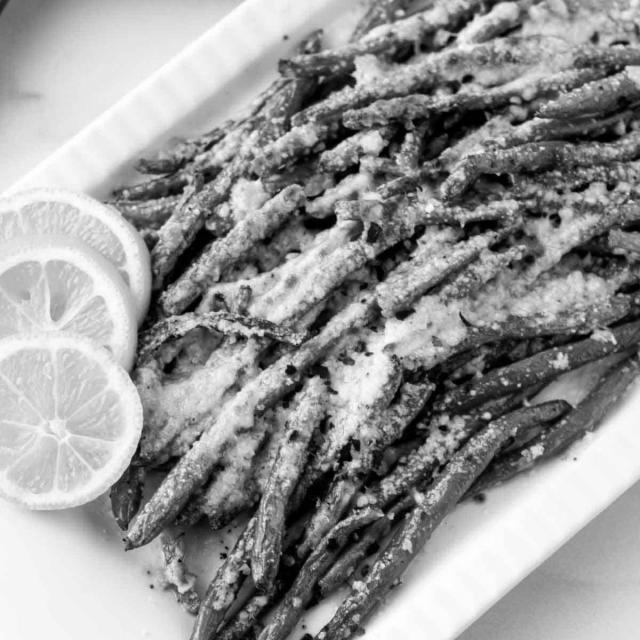Beans: (115, 1, 639, 638)
